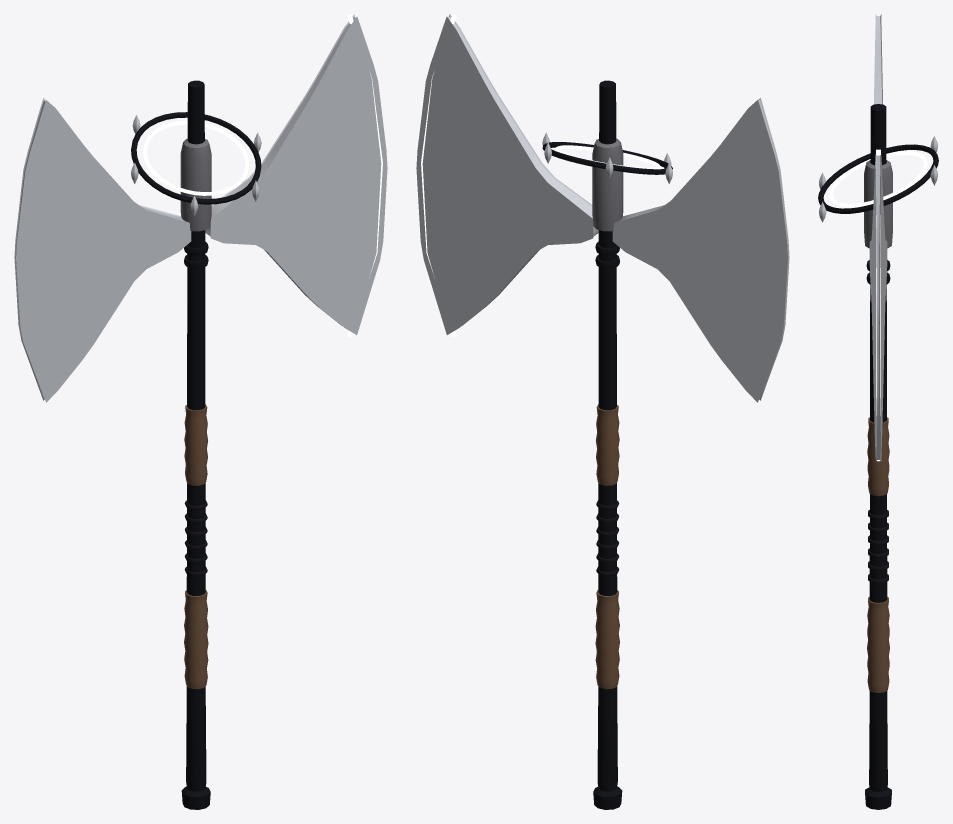
Rendered from esc_w_knight_greataxe_0.glb.
3 views of the same model, side by side, from view 1: azimuth 30°, elevation 25°; view 2: azimuth 150°, elevation 25°; view 3: azimuth 270°, elevation 25° (orthographic). The views are drawn at different scales.
Parts seen in each view (by area): view 1: esc_w_knight_greataxe_0; view 2: esc_w_knight_greataxe_0; view 3: esc_w_knight_greataxe_0.
Part boxes in pixels (left/top/right/bottom): esc_w_knight_greataxe_0: left=14, top=14, right=387, bottom=809; esc_w_knight_greataxe_0: left=416, top=14, right=789, bottom=809; esc_w_knight_greataxe_0: left=818, top=14, right=938, bottom=809.
Bounding box in the file's own units: 0.8798 × 1.71 × 0.2563.
